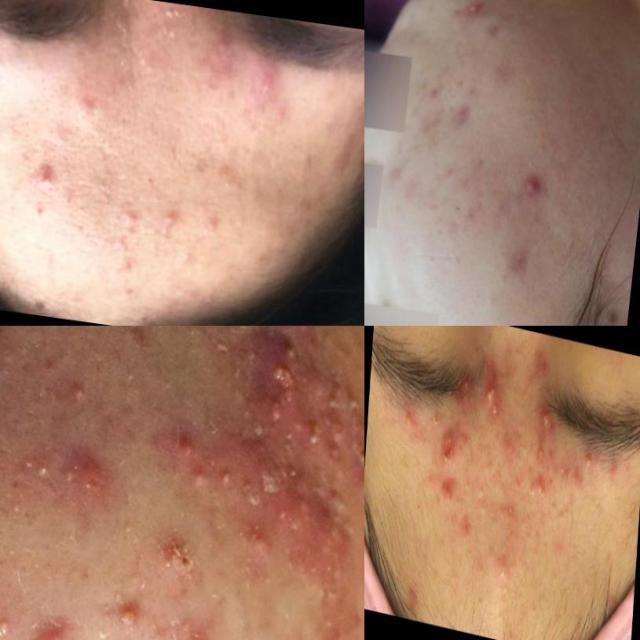8: (43, 436, 134, 555), (165, 605, 229, 640), (522, 159, 559, 214), (36, 154, 76, 202), (170, 414, 203, 465), (455, 0, 491, 36), (252, 59, 287, 92), (439, 465, 456, 511)
9: (100, 577, 157, 640), (0, 593, 27, 640), (581, 442, 598, 478), (401, 406, 415, 436)
blackheads: (196, 440, 364, 568), (235, 326, 352, 466), (144, 514, 207, 592), (51, 438, 128, 492), (24, 587, 88, 640), (446, 93, 481, 133), (436, 419, 462, 458), (507, 241, 534, 275), (482, 376, 499, 411), (538, 400, 550, 430)
whiteheads: (502, 499, 518, 524), (530, 444, 548, 466)
